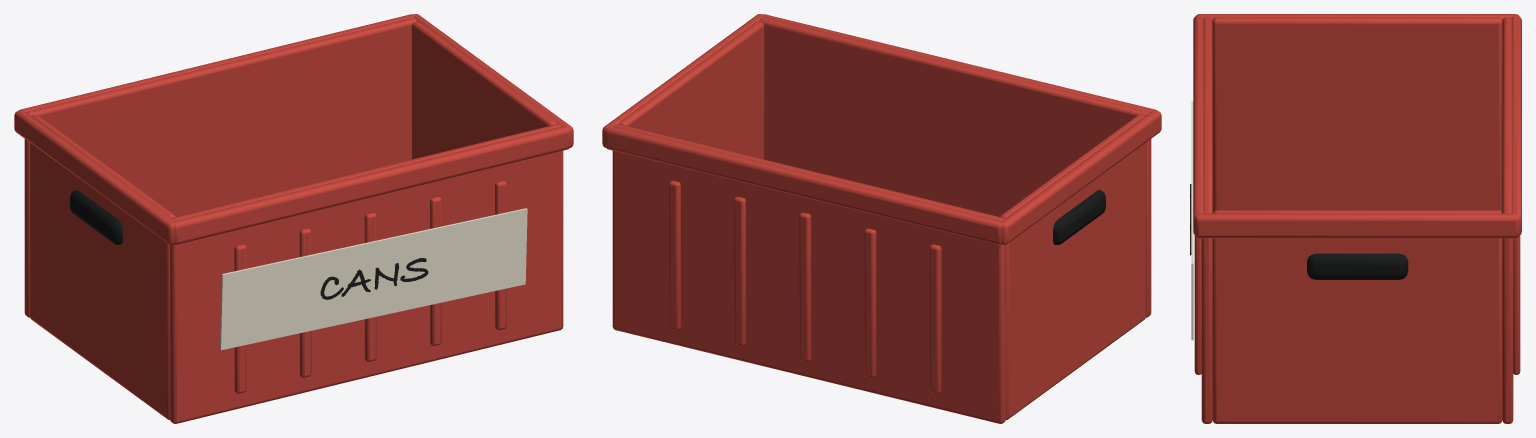
File: crate_cans.fbx
The picture shows the model from 3 angles, left to right: view 1: azimuth 30°, elevation 25°; view 2: azimuth 150°, elevation 25°; view 3: azimuth 270°, elevation 25°; orthographic projection. The views are drawn at different scales.
Visible parts, largest first — view 1: crate_cans; view 2: crate_cans; view 3: crate_cans.
Boxes of the visible parts, left/top/right/bottom form: crate_cans: left=14, top=14, right=573, bottom=423; crate_cans: left=602, top=14, right=1161, bottom=423; crate_cans: left=1190, top=14, right=1521, bottom=423.
Bounding box in the file's own units: 0.622 × 0.3 × 0.426.
